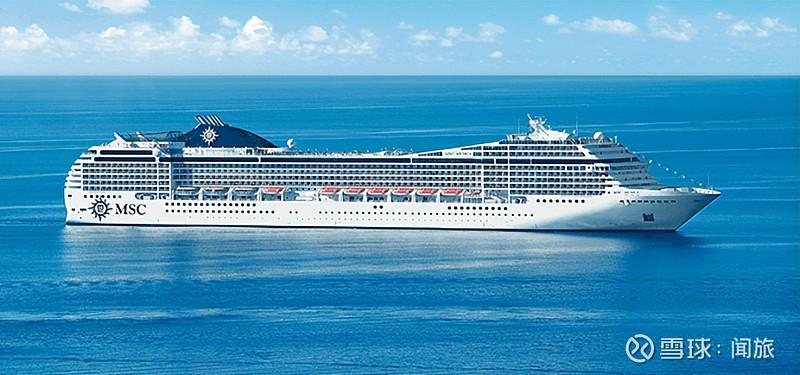Ship: (56, 109, 722, 237)
